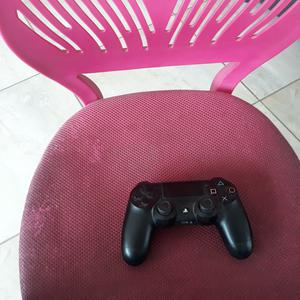controller: (121, 177, 254, 266)
